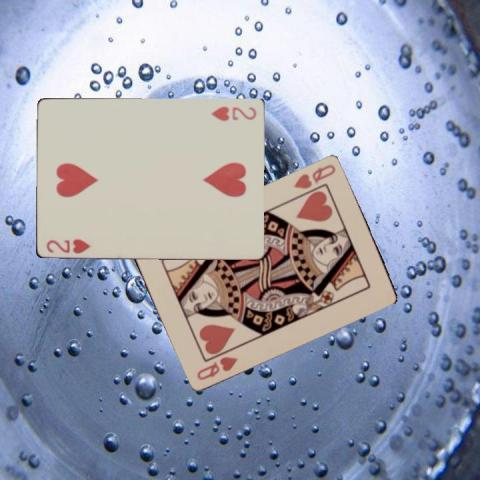2h: (208, 103, 257, 123), (44, 236, 92, 255)
Qh: (291, 161, 338, 190), (194, 353, 239, 381)
